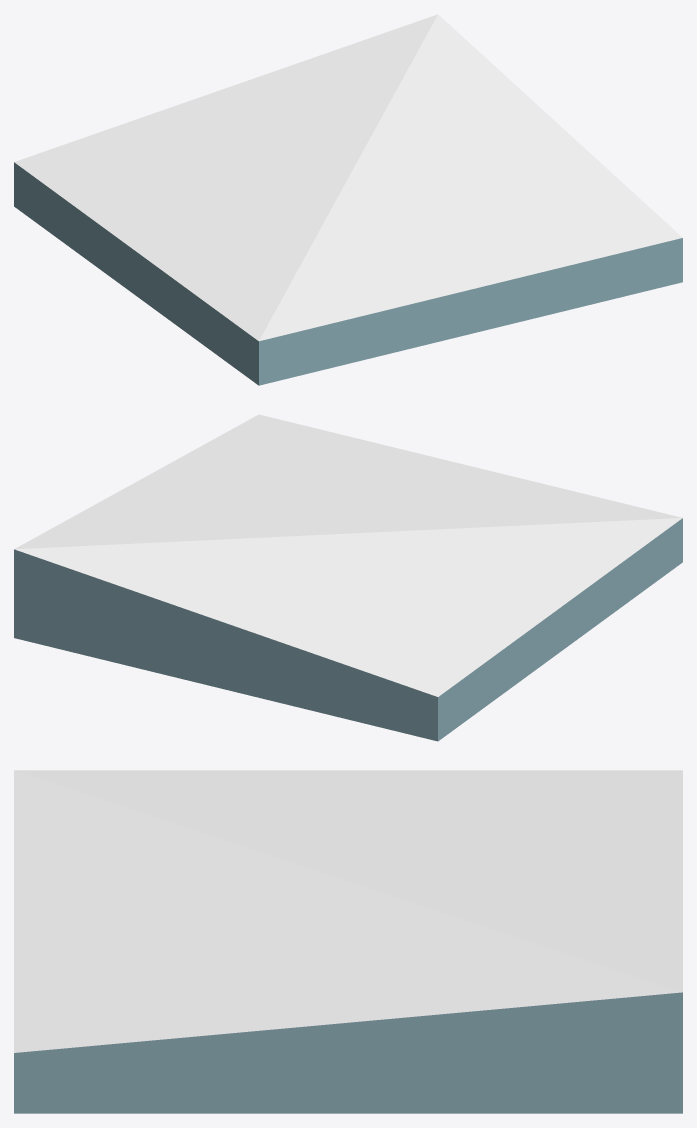
File: Terrain_Modular_Tiles_Snow_Ice_Ramp_Corner_Small_01.fbx
3 views of the same model, one above another, from view 1: azimuth 30°, elevation 25°; view 2: azimuth 150°, elevation 25°; view 3: azimuth 270°, elevation 25° (orthographic). The views are drawn at different scales.
Visible parts, largest first — view 1: Terrain_Modular_Tiles_Snow_Ice_Ramp_Corner_Small_01; view 2: Terrain_Modular_Tiles_Snow_Ice_Ramp_Corner_Small_01; view 3: Terrain_Modular_Tiles_Snow_Ice_Ramp_Corner_Small_01.
Boxes of the visible parts, x1=… form: Terrain_Modular_Tiles_Snow_Ice_Ramp_Corner_Small_01: x1=14, y1=14, x2=682, y2=385; Terrain_Modular_Tiles_Snow_Ice_Ramp_Corner_Small_01: x1=14, y1=414, x2=682, y2=741; Terrain_Modular_Tiles_Snow_Ice_Ramp_Corner_Small_01: x1=14, y1=770, x2=682, y2=1113.
Bounding box in the file's own units: 3000 × 600 × 3000.
